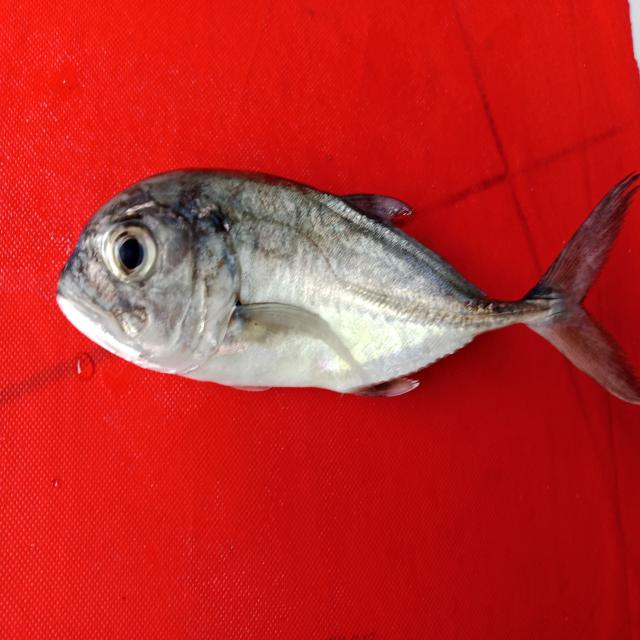ikan: (55, 164, 638, 405)
